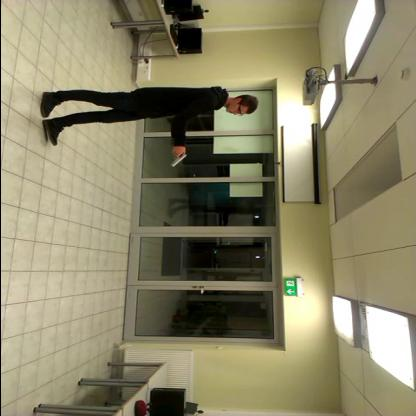Pistol: (161, 145, 193, 173)
